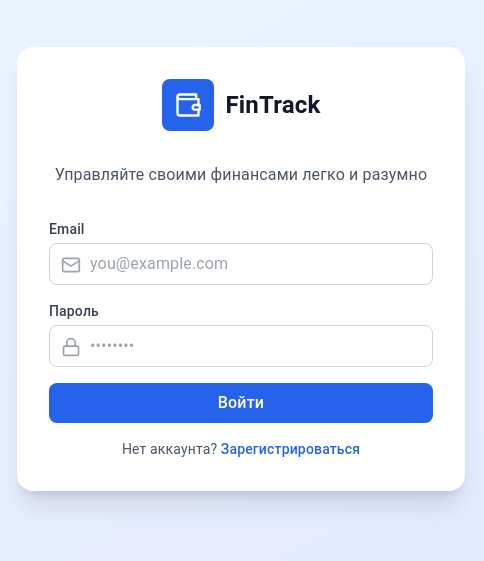
Test: Вход пользователя в систему › SC-LOGIN-03: Пользователь видит ошибку при несуществующем email
Type "nobody@unknown.com" into the field with placeholder "you@example.com" at (241, 264), box left=49, top=243, right=433, bottom=285
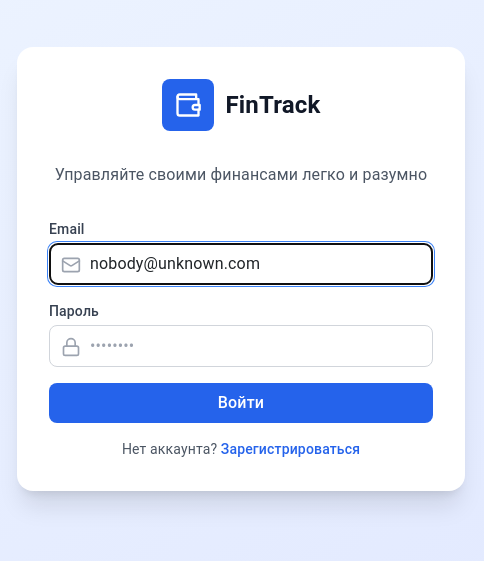
Type "SomePass123!" into the password field with placeholder "••••••••" at (241, 346), box left=49, top=325, right=433, bottom=367
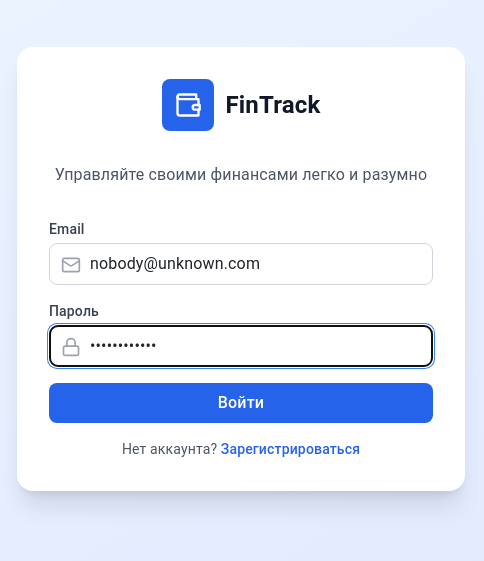
Click the submit button at (241, 403), box left=49, top=383, right=433, bottom=423
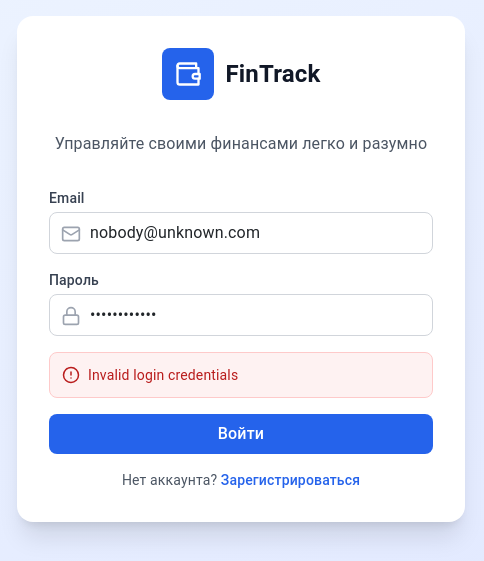
Expected: the element showing "Invalid login credentials" is shown, left=49, top=352, right=433, bottom=398
